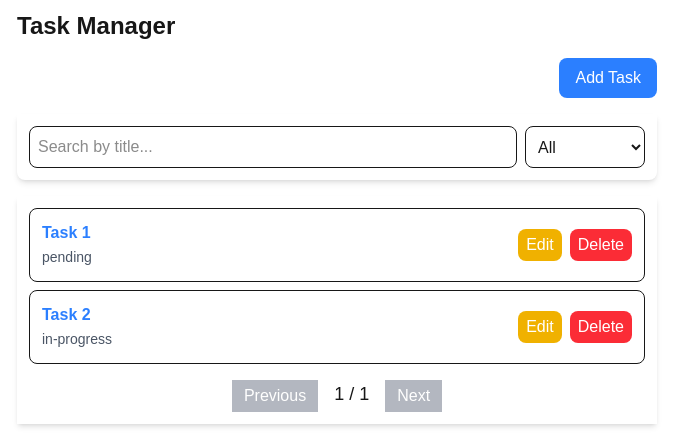
Scenario: TaskList Component › filters tasks by status
The width and height of the screenshot is (675, 445).
Select "Pending" in the dropdown at (585, 147), box [525,126,645,168]
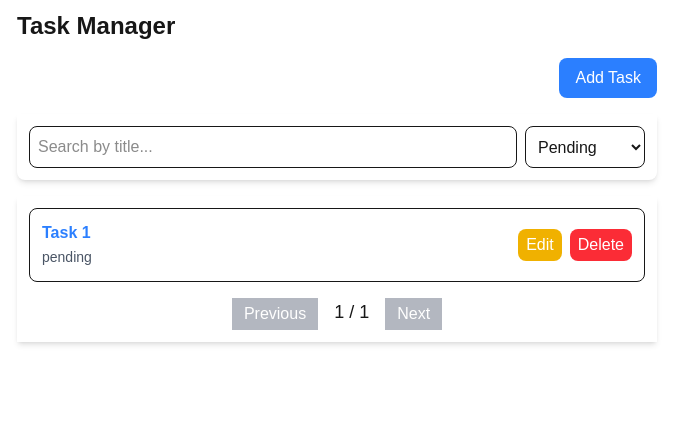
Expected: the heading "Task 1" is shown, [42,221,92,245]
Expected: the link "Task 2" is gone
